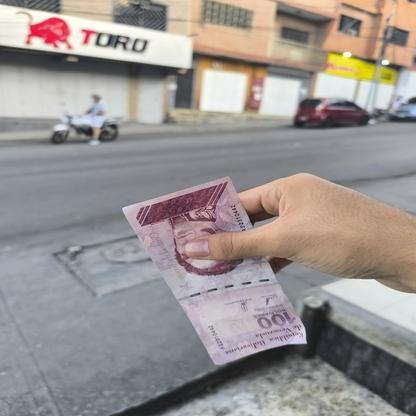one_hundred-front-vef: (121, 174, 307, 366)
